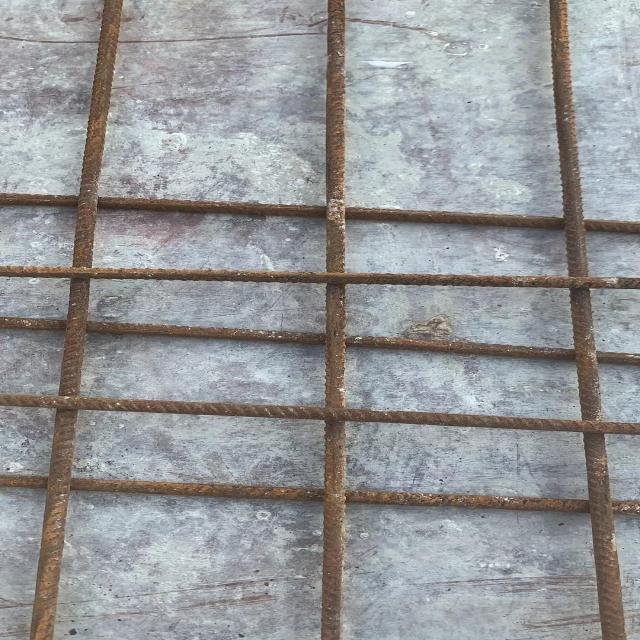ribbed bar: (26, 1, 125, 639), (545, 0, 628, 639), (0, 316, 639, 365), (0, 192, 639, 234), (0, 393, 639, 435), (0, 473, 639, 515), (318, 0, 345, 639), (0, 266, 639, 289)
